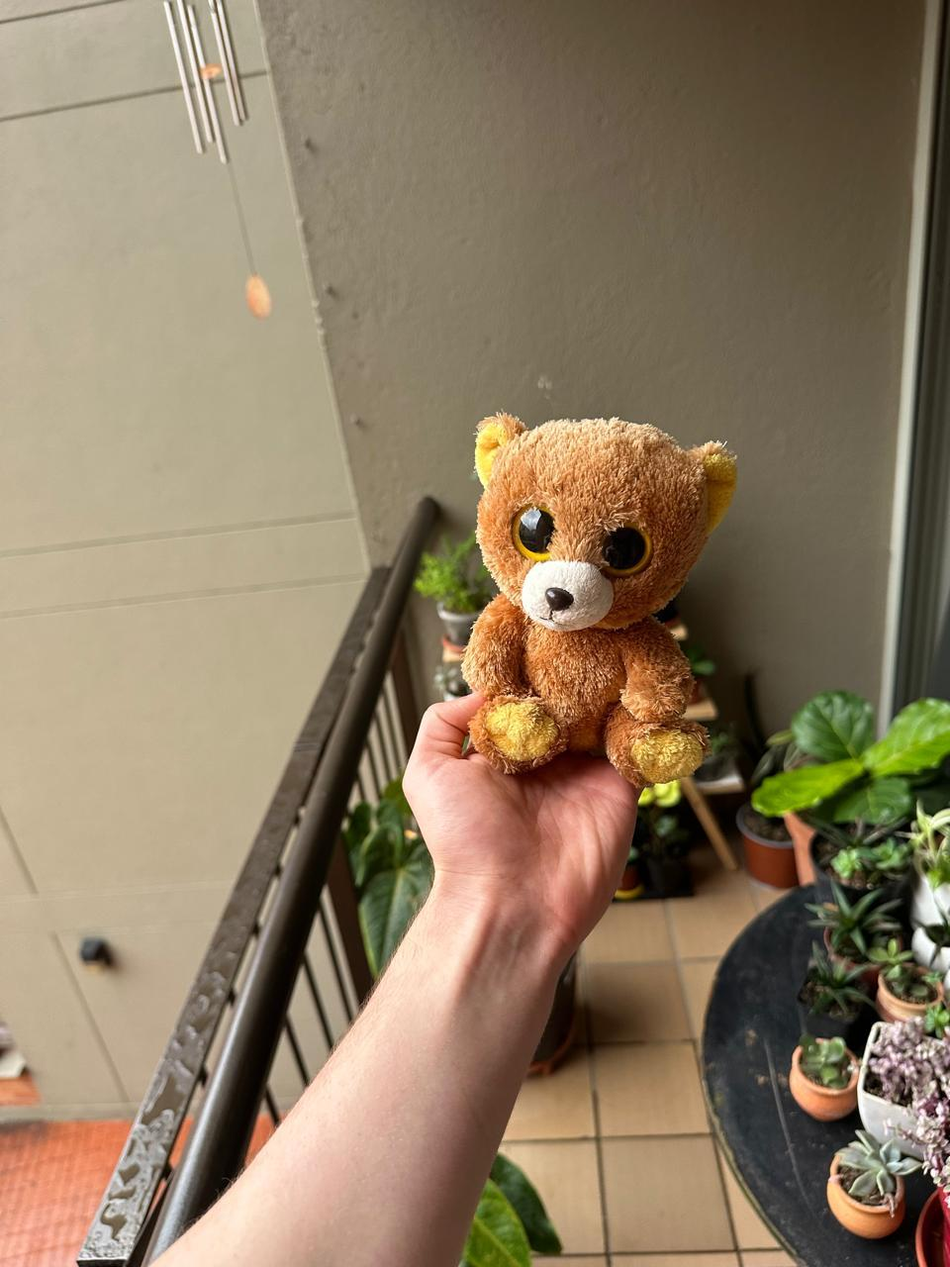peluche_sebastian: (468, 403, 740, 784)
